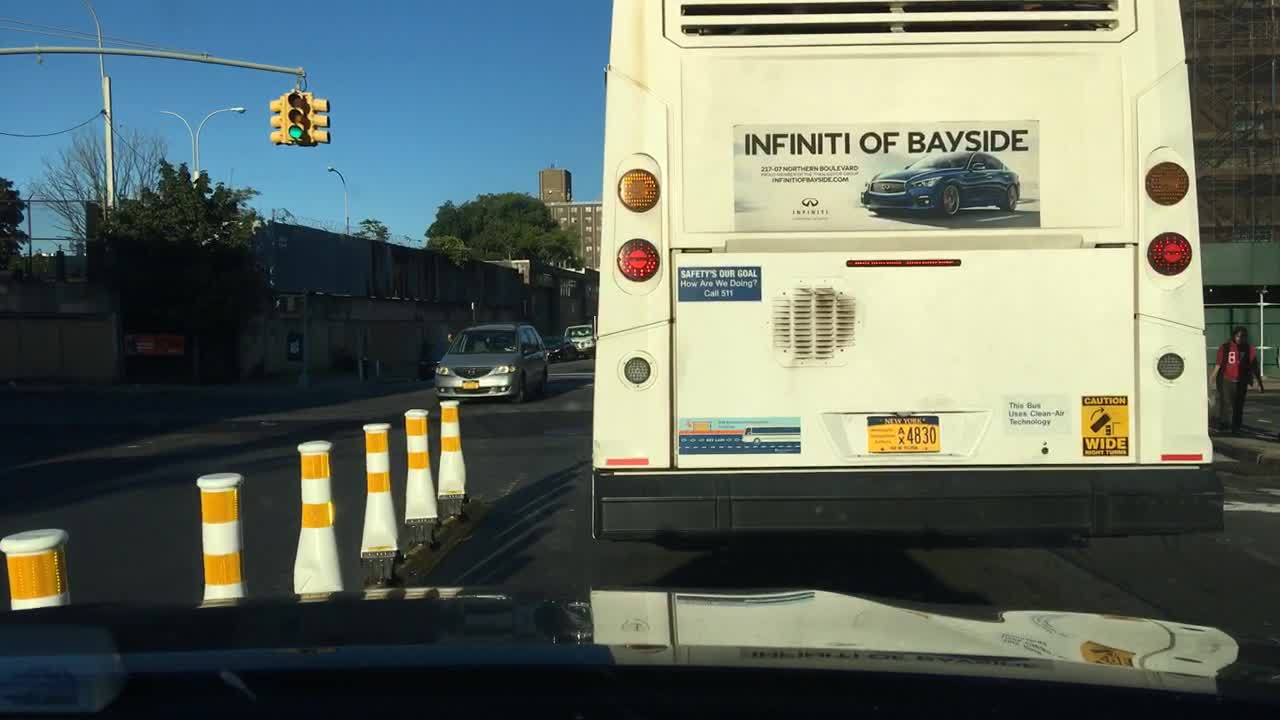bus: (582, 0, 1227, 549)
car: (435, 322, 549, 404), (417, 341, 452, 382), (540, 335, 576, 362), (566, 321, 596, 353)
person: (1209, 322, 1267, 430)
traffic light: (309, 97, 334, 146), (286, 92, 308, 141), (269, 92, 283, 144)
